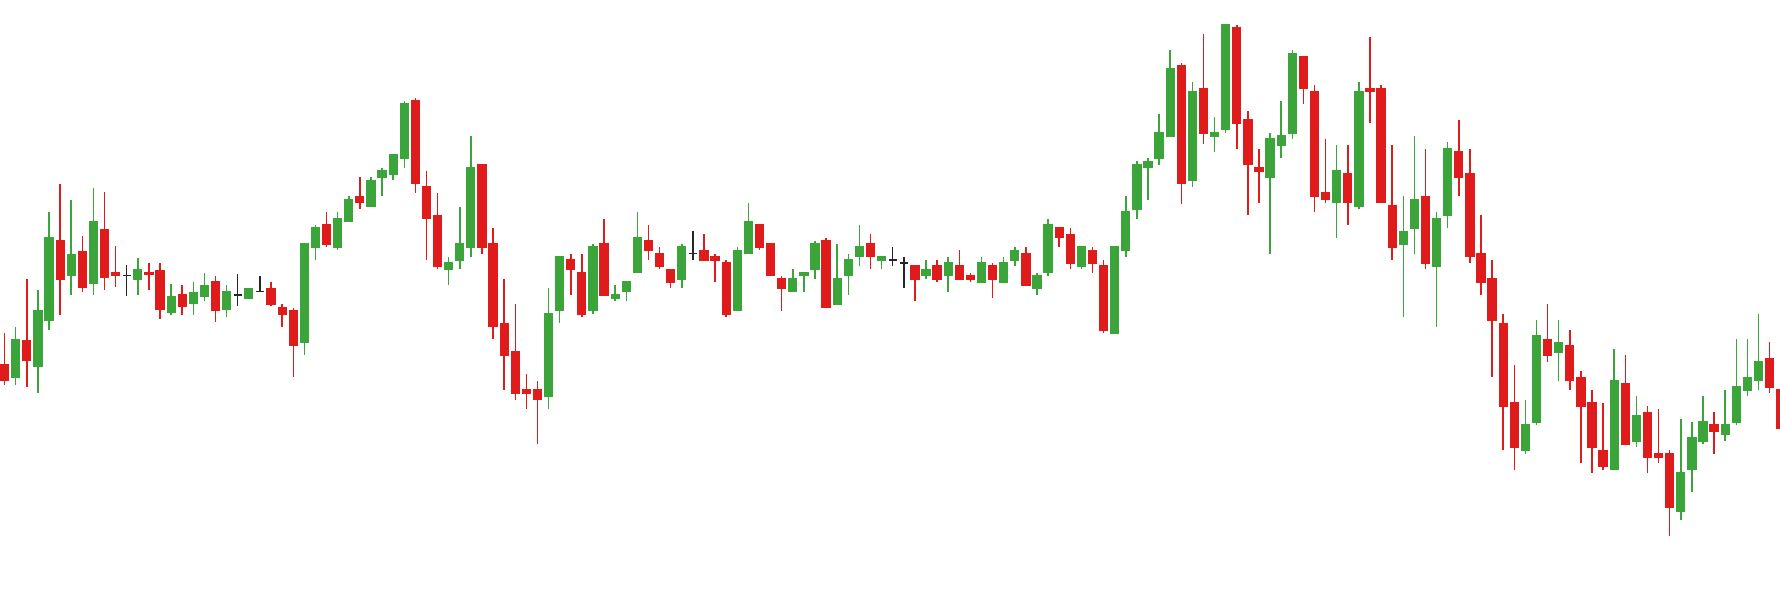buy: (285, 251, 555, 454), (988, 237, 1120, 341)
sell: (1284, 33, 1375, 156), (1407, 118, 1466, 248)
